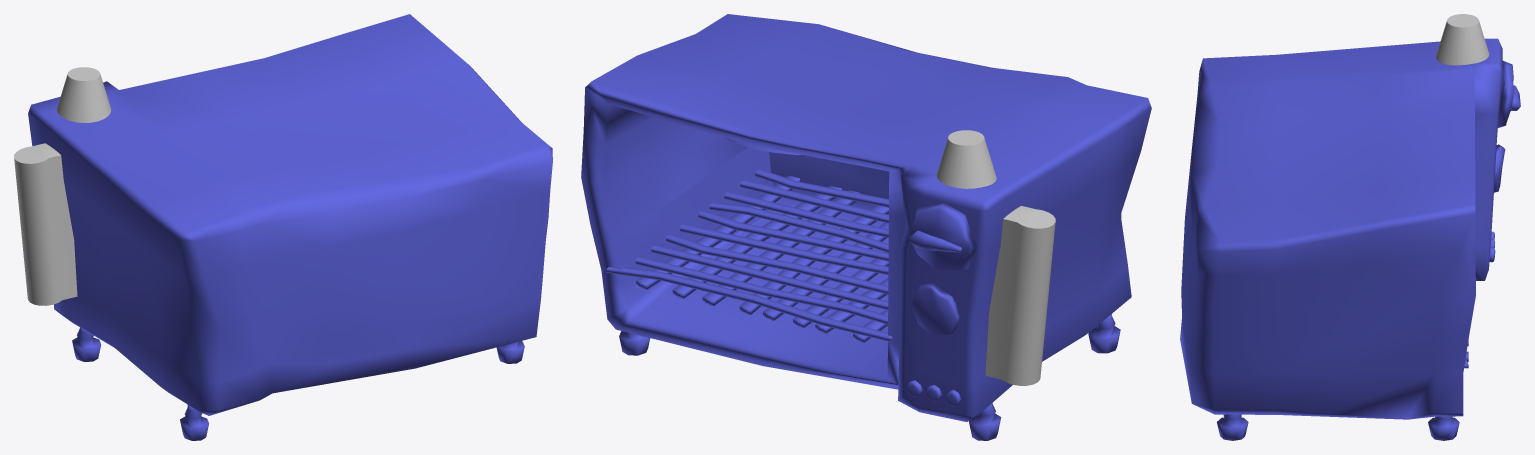
File: SM_Microwave.fbx
The picture shows the model from 3 angles, left to right: view 1: azimuth 30°, elevation 25°; view 2: azimuth 150°, elevation 25°; view 3: azimuth 270°, elevation 25°; orthographic projection. The views are drawn at different scales.
Visible parts, largest first — view 1: SM_Microwave; view 2: SM_Microwave; view 3: SM_Microwave.
Boxes of the visible parts, left/top/right/bottom form: SM_Microwave: left=14, top=14, right=552, bottom=440; SM_Microwave: left=581, top=14, right=1151, bottom=440; SM_Microwave: left=1180, top=14, right=1520, bottom=440.
Bounding box in the file's own units: 34.74 × 21.74 × 25.06.
